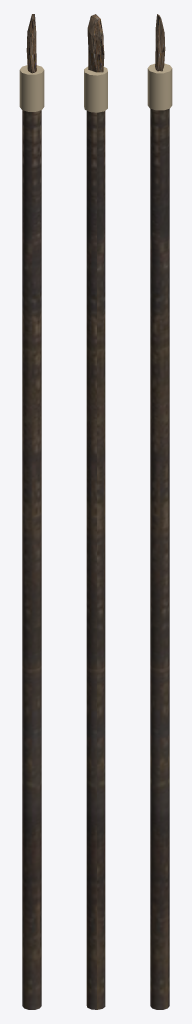
The model's file is spear.glb.
3 views of the same model, side by side, from view 1: azimuth 90°, elevation 25°; view 2: azimuth 150°, elevation 25°; view 3: azimuth 270°, elevation 25° (orthographic).
Parts seen in each view (by area): view 1: shaft, lash, tip; view 2: shaft, lash, tip; view 3: shaft, lash, tip.
Part boxes in pixels (x1=…): shaft: x1=22, y1=110, x2=41, y2=1009; lash: x1=19, y1=65, x2=44, y2=111; tip: x1=26, y1=14, x2=36, y2=73; shaft: x1=86, y1=111, x2=105, y2=1009; lash: x1=84, y1=66, x2=107, y2=112; tip: x1=87, y1=14, x2=104, y2=72; shaft: x1=150, y1=108, x2=169, y2=1009; lash: x1=147, y1=63, x2=172, y2=110; tip: x1=155, y1=14, x2=165, y2=71.
Size of the model in its own units: 0.0342 by 1.6 by 0.036.
3 materials, 2 textured.
